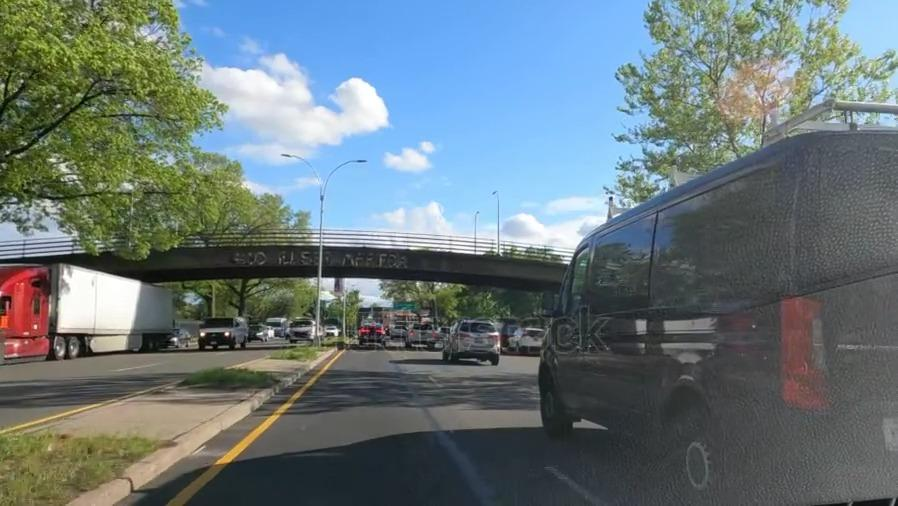car: (444, 320, 496, 362), (506, 325, 540, 354), (354, 323, 392, 347), (403, 324, 436, 347)
truck: (0, 284, 181, 354)
van: (568, 131, 895, 483), (196, 316, 246, 349), (288, 314, 319, 345)
wheel: (664, 406, 742, 506), (539, 363, 570, 435)
